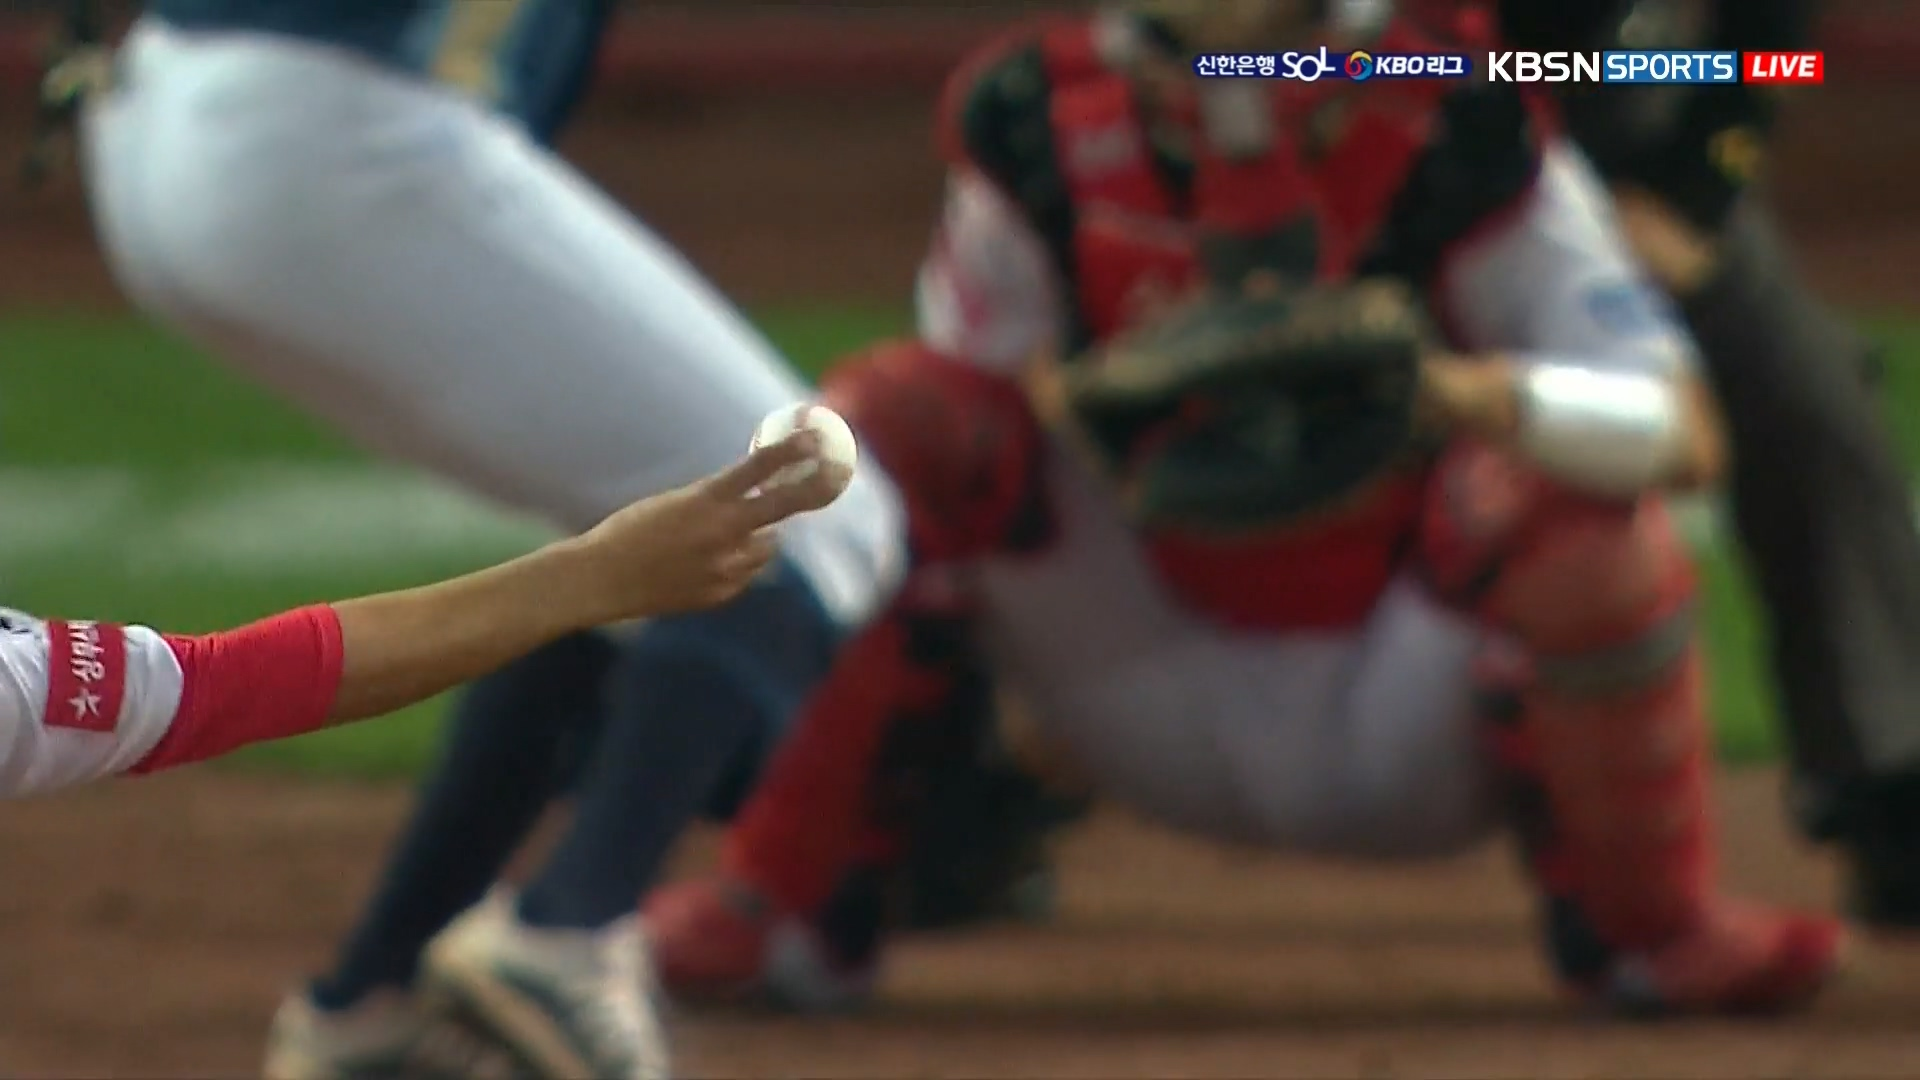zoomin_hand: (150, 400, 855, 779)
